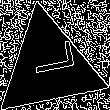L_W: (22, 46, 76, 86)
